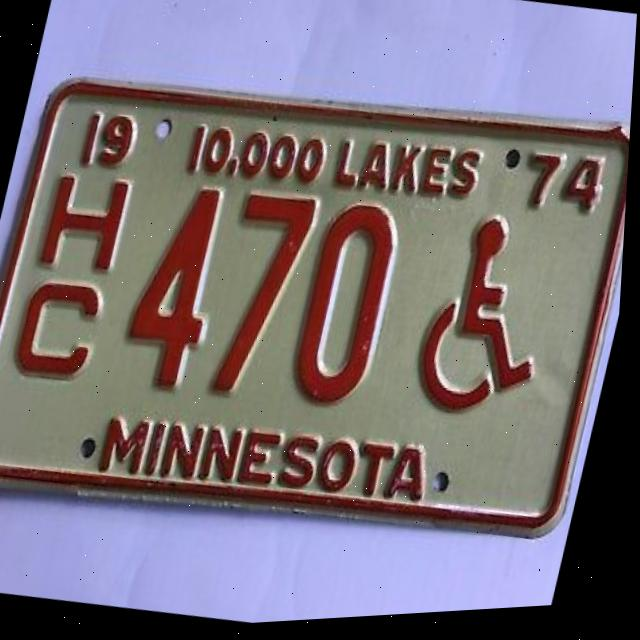symbol_of_access: (390, 205, 584, 454)
